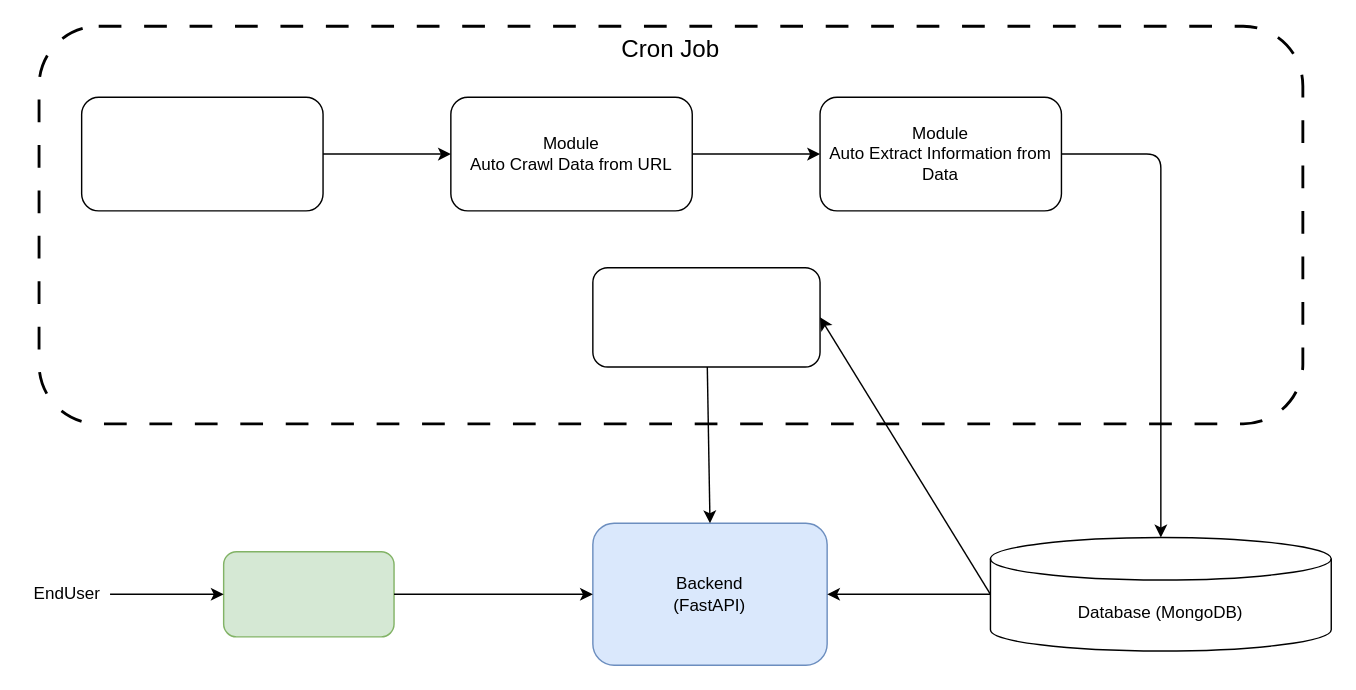
The diagram is 1356 pixels wide and 690 high, and some of its shapes have lost their labels. The shapes that lost their labels are listed below. From the top down, each one's centre as x and y in pixels, then its label:
At pixel 201 153: "Module Auto check schoolarchip's news everyday".
At pixel 705 316: "Recommendation model".
At pixel 308 593: "Interface".
